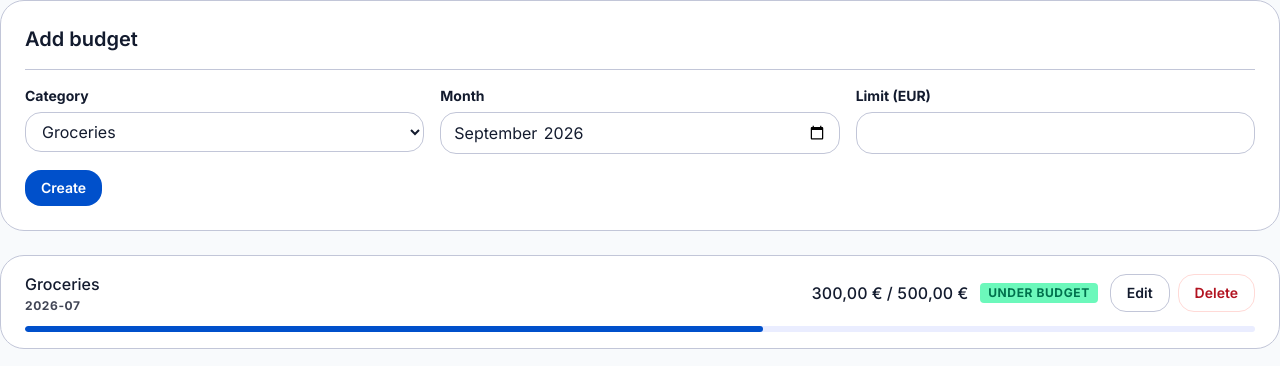
Test: BudgetsContainer › deletes a budget
The image size is (1280, 366).
Check: the list named "Budgets" is shown, box [1,256,1279,348]
Click the button "Delete".
click(1216, 293)  # box [1178,274,1255,312]
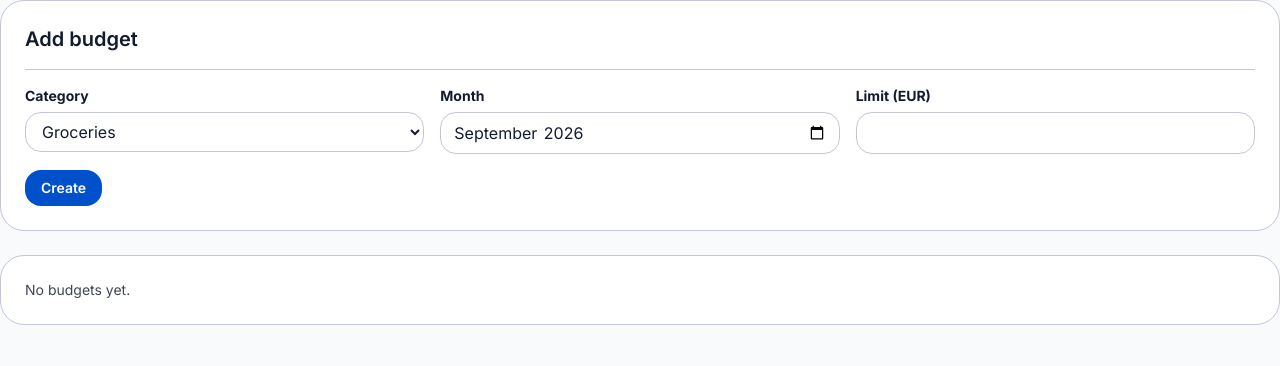
Check: the text "No budgets yet." is shown, box [25,281,130,298]
